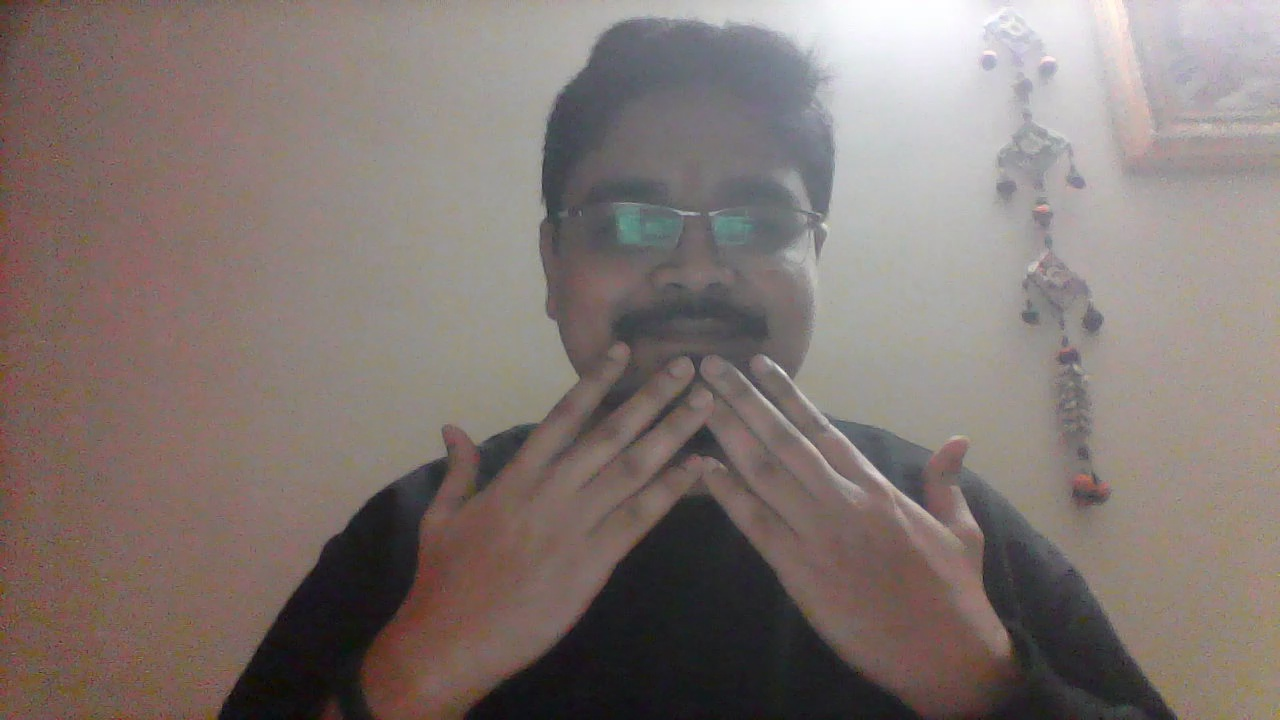Thanks: (411, 341, 989, 697)
